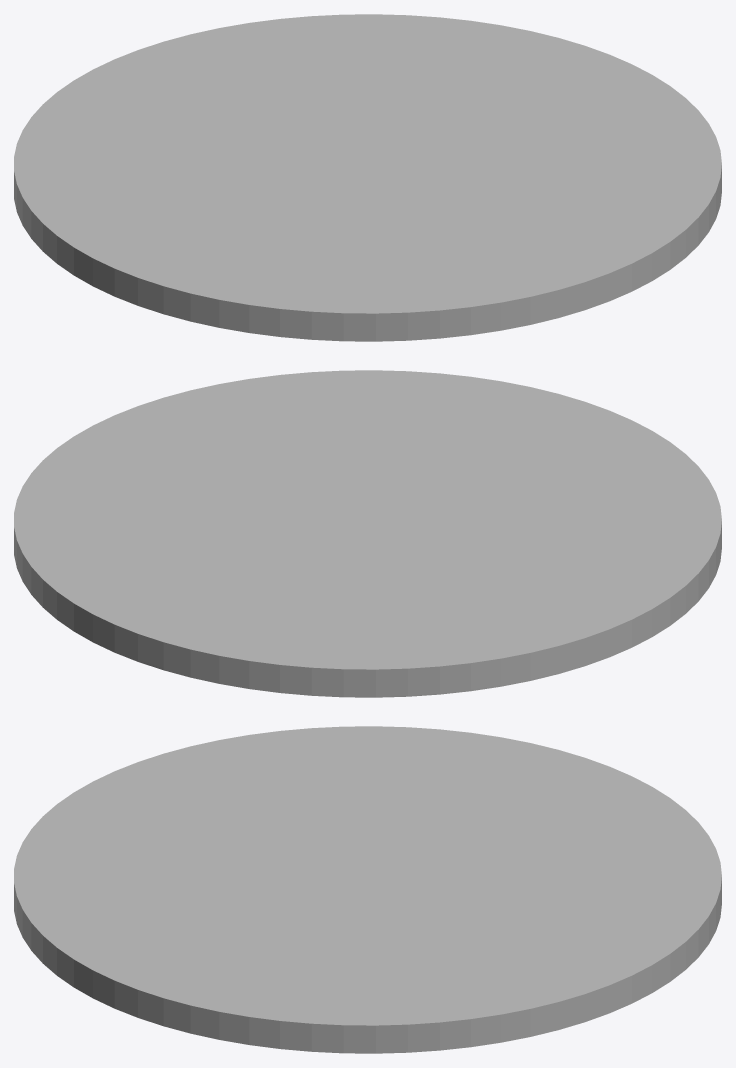
Rendered from Table.fbx.
3 renders of one model, top to bottom at view 1: azimuth 30°, elevation 25°; view 2: azimuth 150°, elevation 25°; view 3: azimuth 270°, elevation 25°, orthographic.
Parts seen in each view (by area): view 1: Table; view 2: Table; view 3: Table.
Part boxes in pixels (x1=…): Table: x1=14, y1=14, x2=721, y2=341; Table: x1=14, y1=370, x2=721, y2=697; Table: x1=14, y1=726, x2=721, y2=1053.
Size of the model in its own units: 2473 by 108 by 2472.
